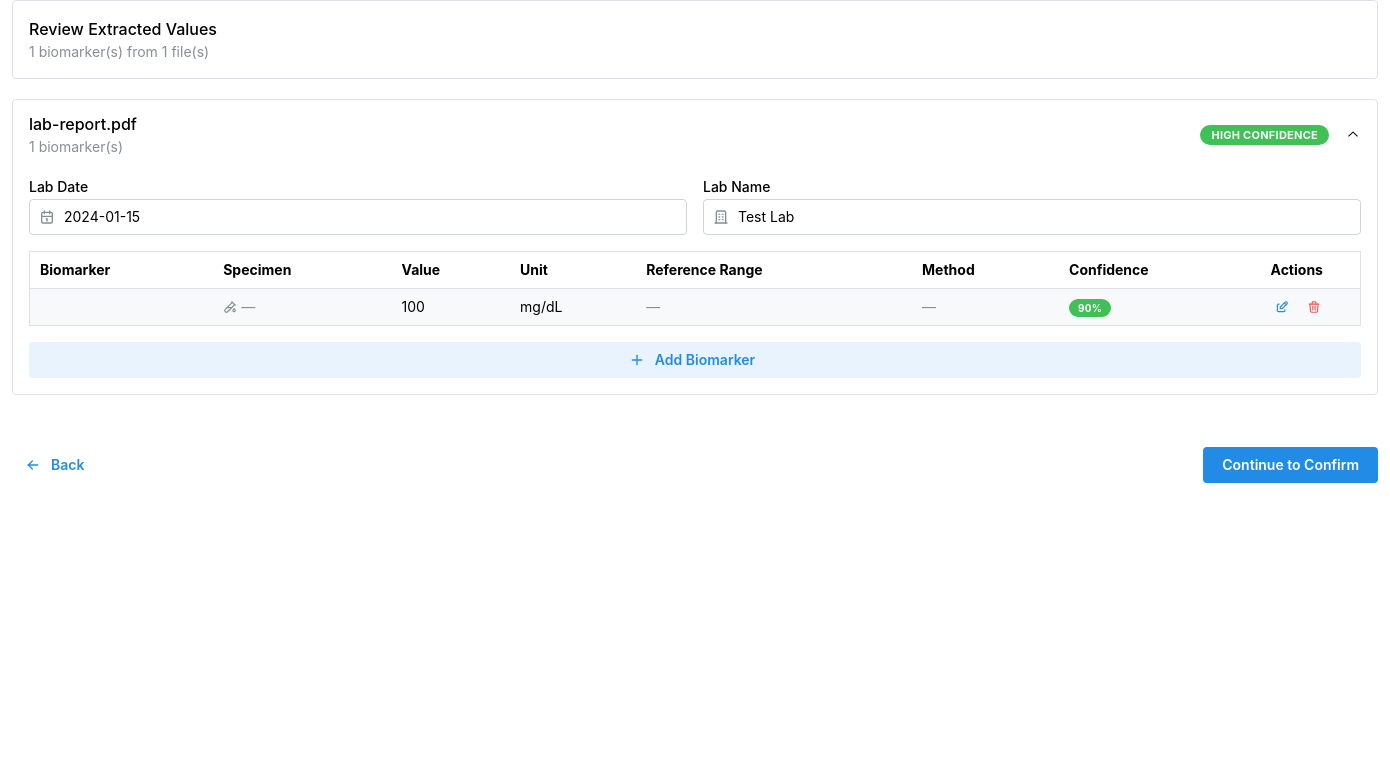
it: ReviewStep › Validation › closes validation error when close button is clicked
The width and height of the screenshot is (1390, 768).
Click the button "Continue to Confirm" at coordinates (1291, 465), box [1203,447,1378,483]
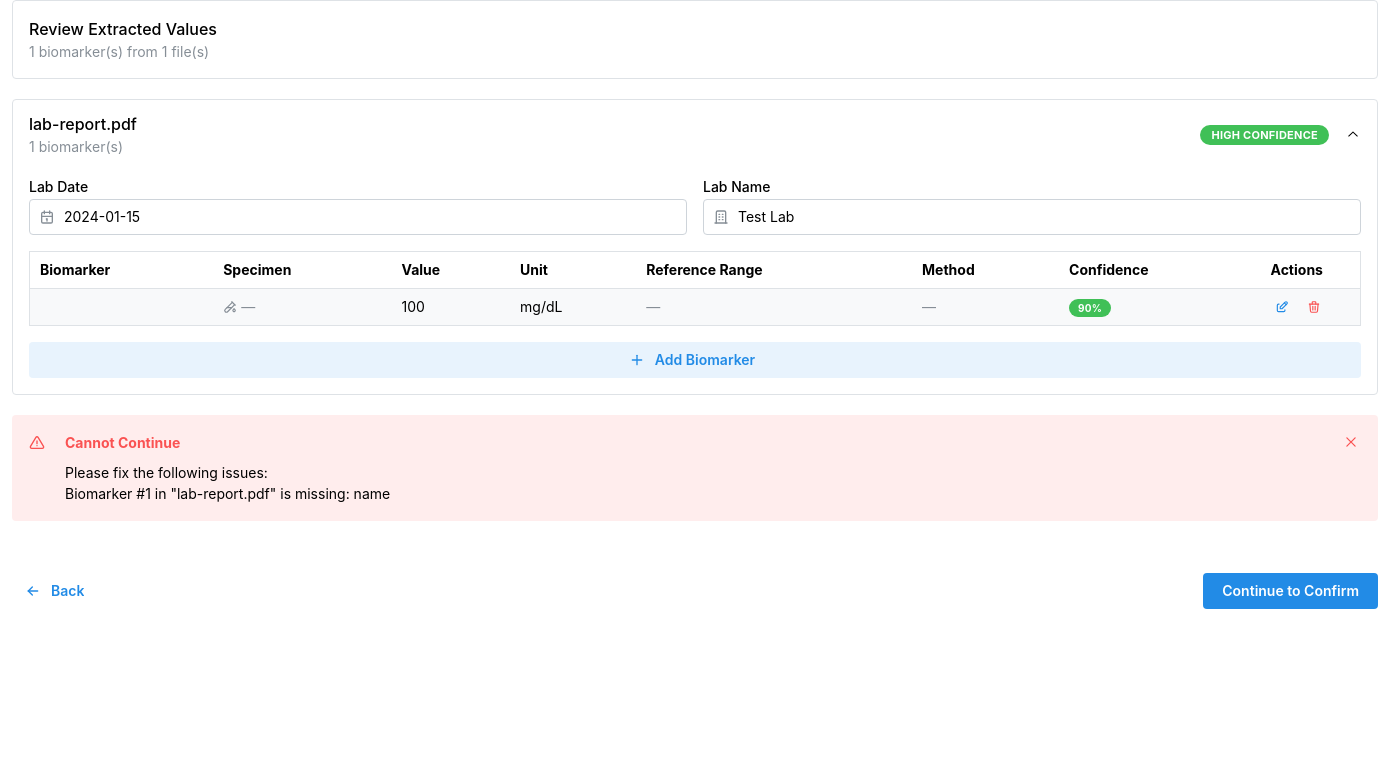
Check: the text "Cannot Continue" is shown, box [65,432,180,453]
Check: the button without text in the row of "Cannot Continue" is shown
Click the button without text in the row of "Cannot Continue" at coordinates (1351, 442), box [1341,432,1361,452]
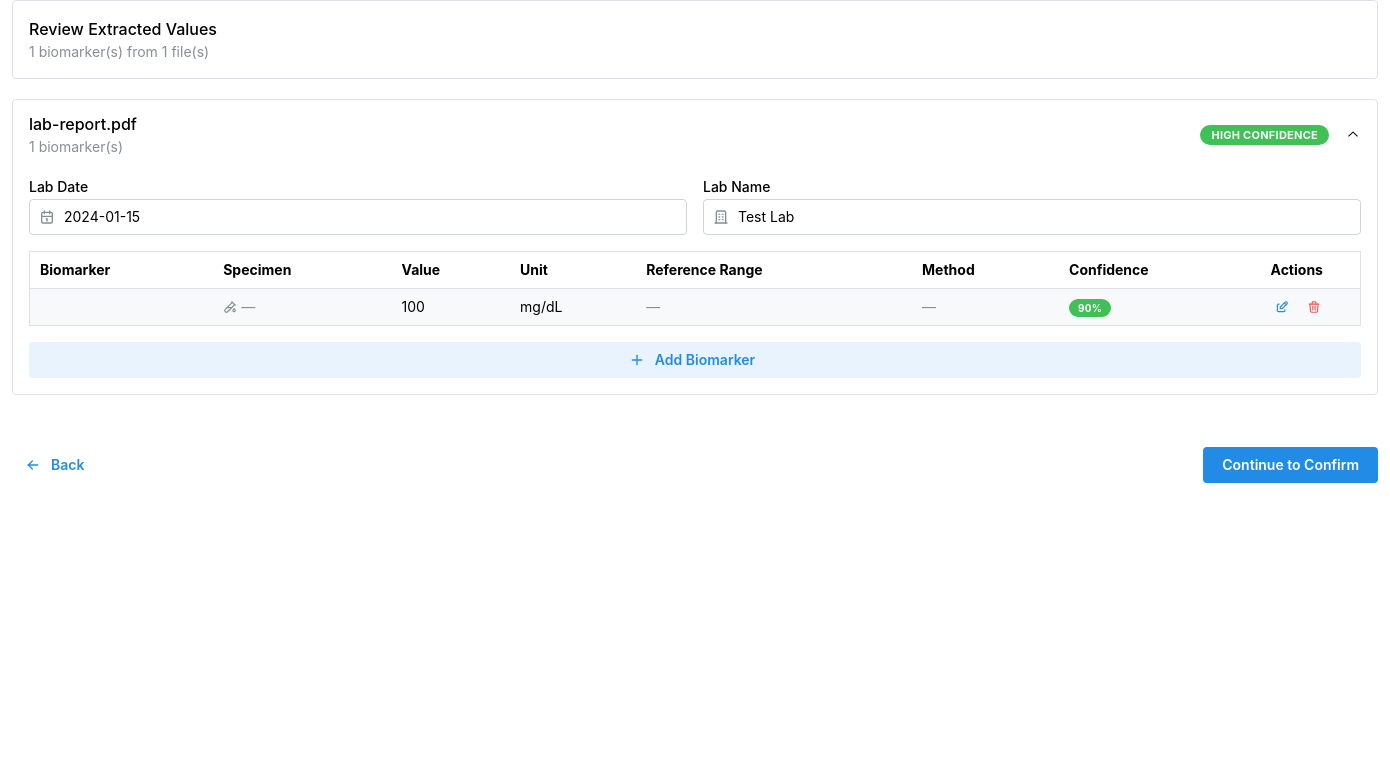
Check: the text "Cannot Continue" is gone
